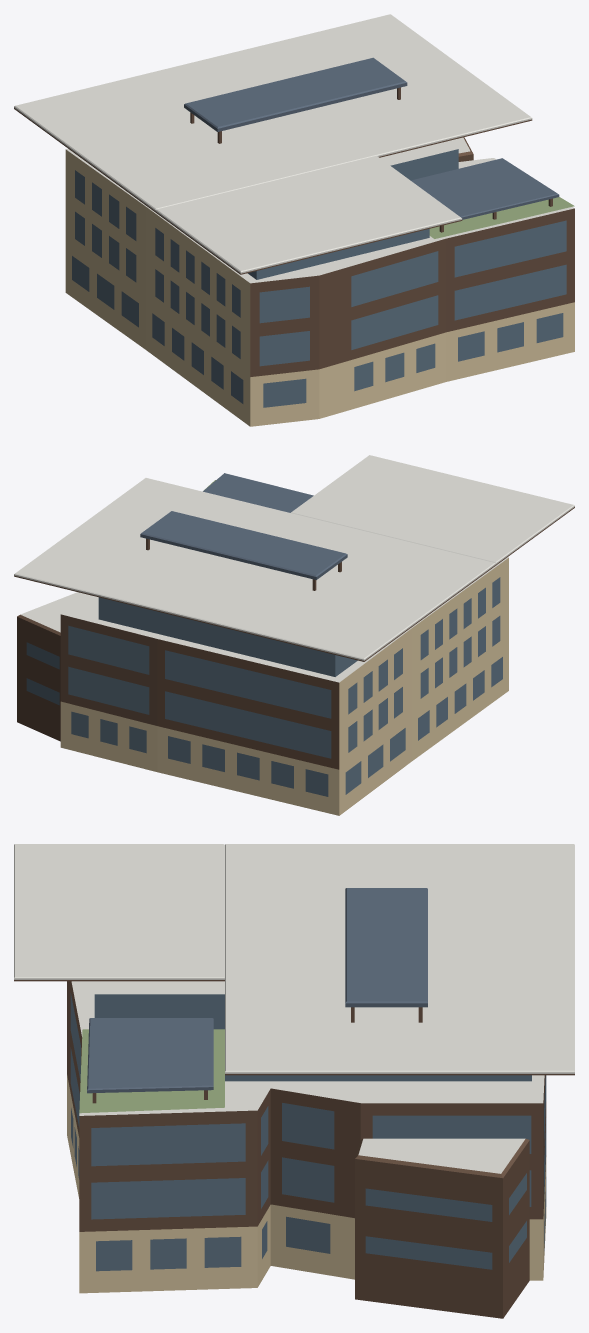
Rendered from atx-central-library.glb.
3 views of the same model, one above another, from view 1: azimuth 30°, elevation 25°; view 2: azimuth 150°, elevation 25°; view 3: azimuth 270°, elevation 25° (orthographic). The views are drawn at different scales.
Parts seen in each view (by area): view 1: Austin Central Library; view 2: Austin Central Library; view 3: Austin Central Library.
Part boxes in pixels (x1,y1,x2,y2): Austin Central Library: (14,14,574,426); Austin Central Library: (14,455,574,815); Austin Central Library: (14,844,574,1318).
Bounding box in the file's own units: 76.4 × 37.4 × 74.5.
